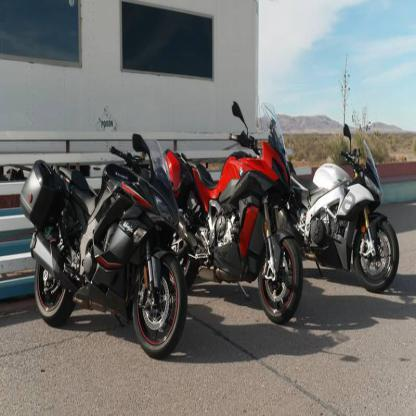Motorcycle: (16, 125, 190, 361), (174, 95, 305, 338), (298, 98, 403, 296)
